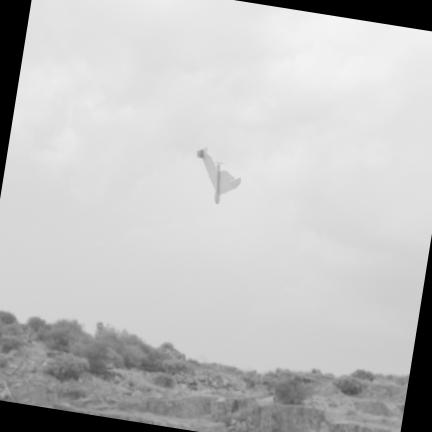Shahed: (197, 148, 240, 203)
